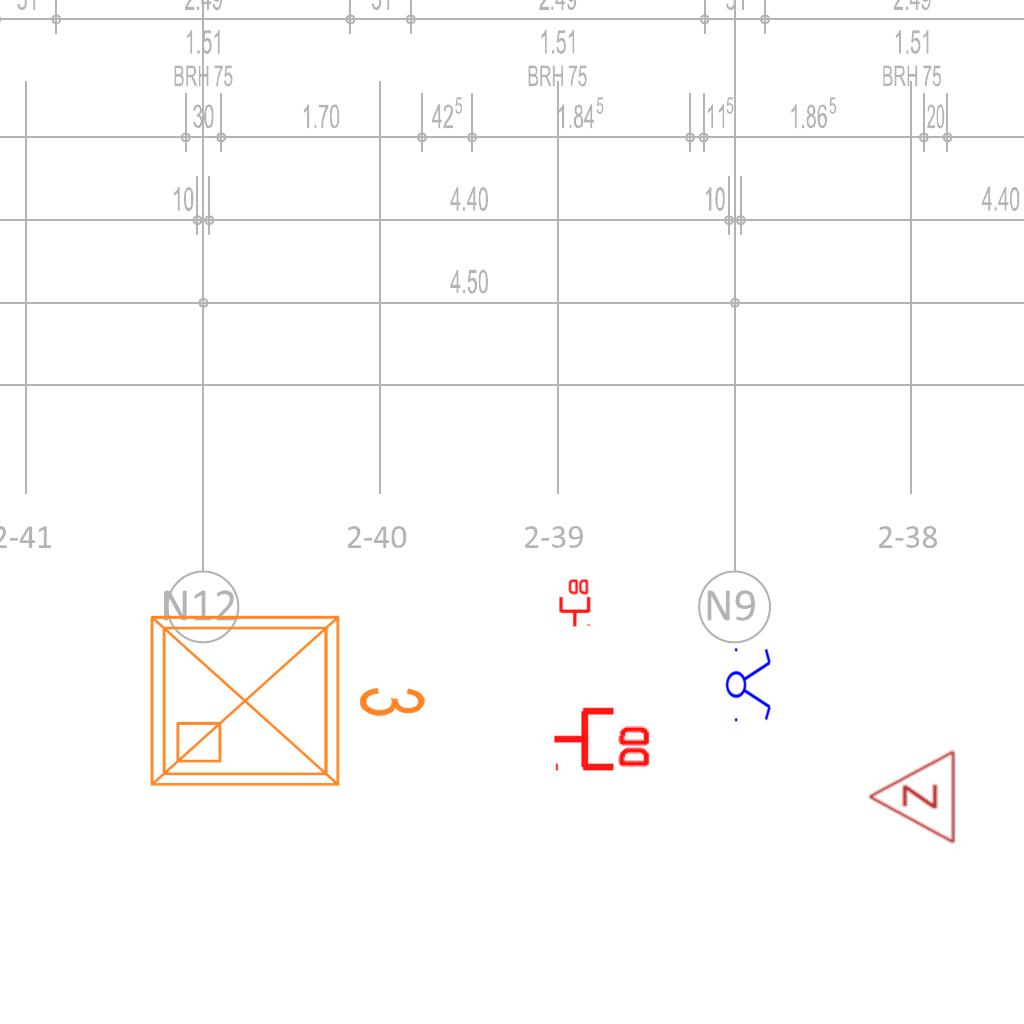Datenanschluss_zweifach: (551, 703, 654, 772), (557, 577, 591, 628)
Einbaudownlights_LED_Konferenzraeume: (136, 593, 436, 801)
Serienschalter: (725, 642, 773, 726)
Zimmersignalleuchte: (862, 749, 962, 847)
